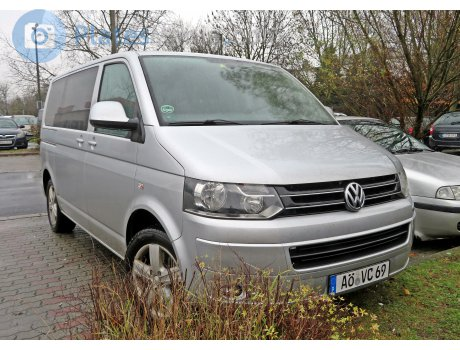License Plates: (332, 268, 391, 283)
